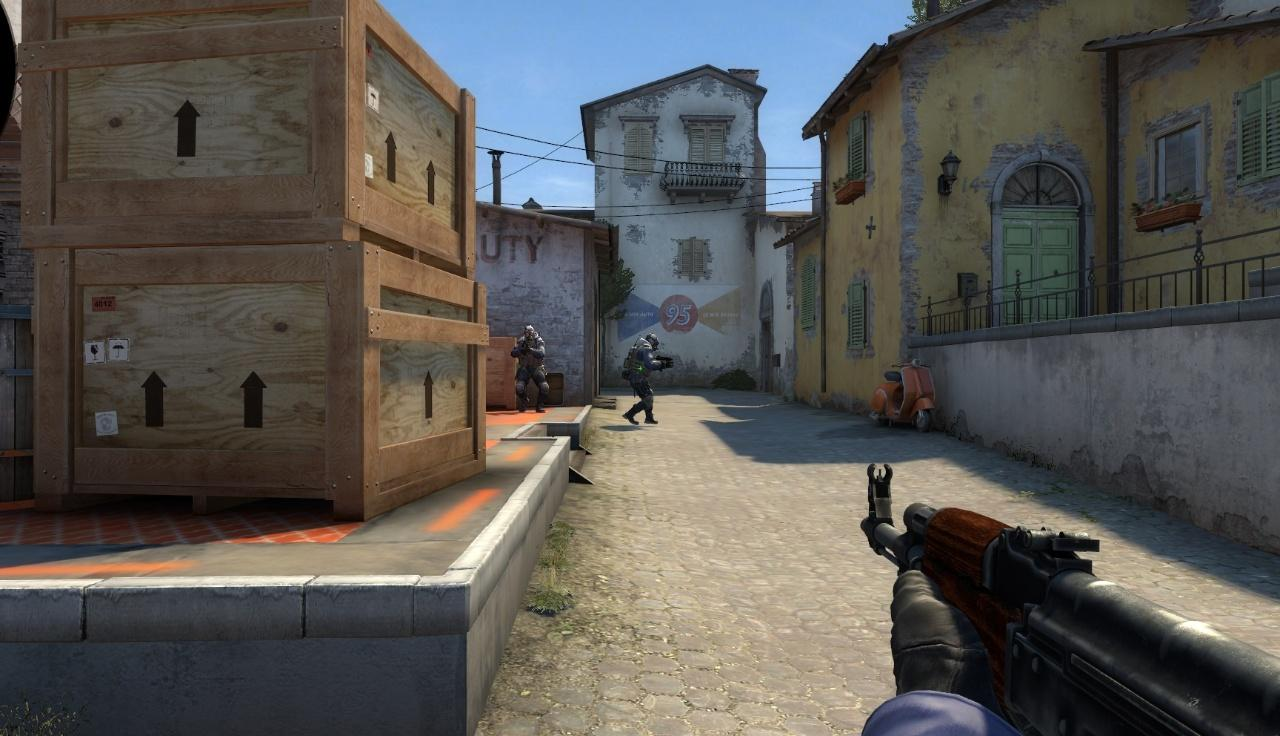ct: (625, 331, 660, 424), (511, 324, 547, 414)
cthead: (644, 333, 660, 351), (524, 325, 535, 339)
rifle: (854, 456, 1280, 736)
